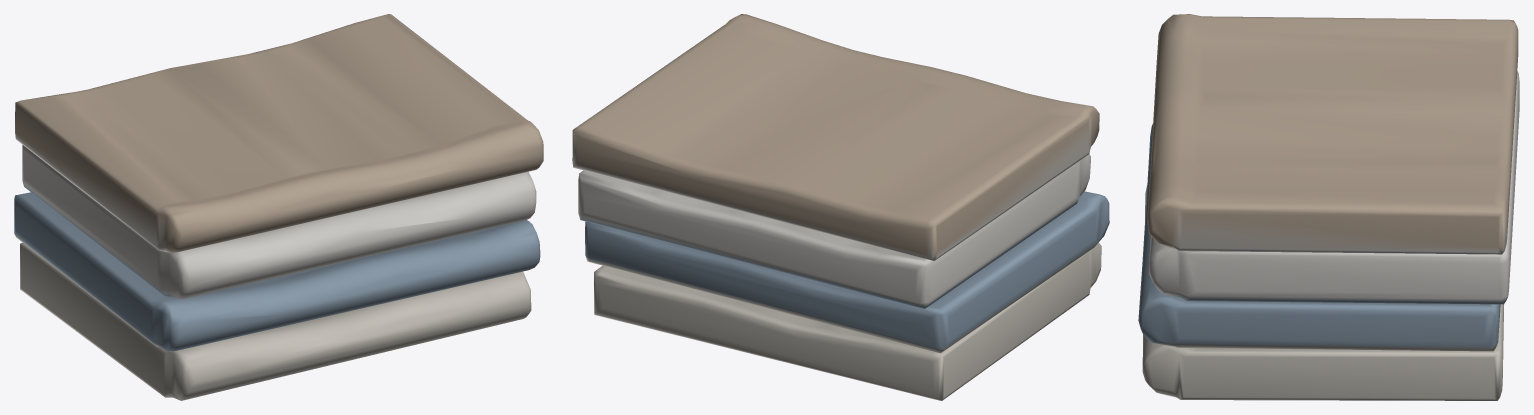
The model's file is fold-lightweight-700eb47845.glb.
The picture shows the model from 3 angles, left to right: view 1: azimuth 30°, elevation 25°; view 2: azimuth 150°, elevation 25°; view 3: azimuth 270°, elevation 25°; orthographic projection. The views are drawn at different scales.
Parts seen in each view (by area): view 1: fold; view 2: fold; view 3: fold.
Boxes of the visible parts, bbox=[...] form: fold: bbox=[14, 14, 543, 400]; fold: bbox=[572, 14, 1109, 400]; fold: bbox=[1138, 14, 1519, 400].
Size of the model in its own units: 0.3047 by 0.1445 by 0.2427.
